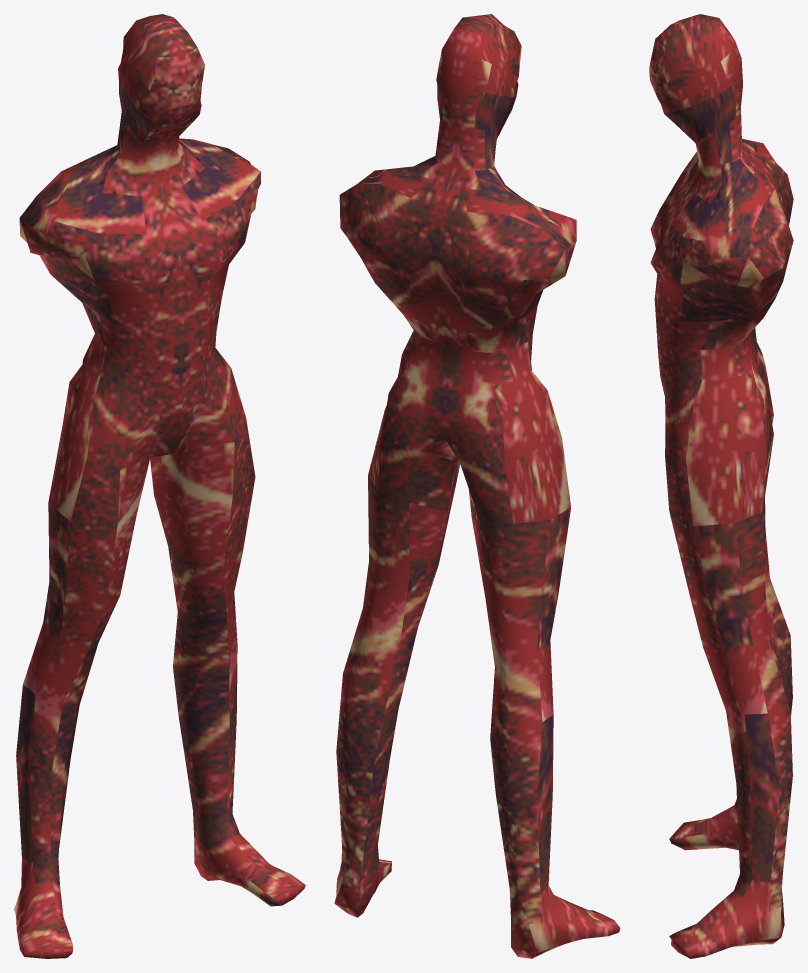
Rendered from Pedro.fbx.
3 views of the same model, side by side, from view 1: azimuth 30°, elevation 25°; view 2: azimuth 150°, elevation 25°; view 3: azimuth 270°, elevation 25° (orthographic). The views are drawn at different scales.
Visible parts, largest first — view 1: Plane; view 2: Plane; view 3: Plane.
Boxes of the visible parts, <box> form: Plane: <box>14,14,305,958</box>; Plane: <box>334,14,620,958</box>; Plane: <box>649,14,793,958</box>.
Size of the model in its own units: 55.93 by 173 by 25.61.
1 material, 1 textured.
